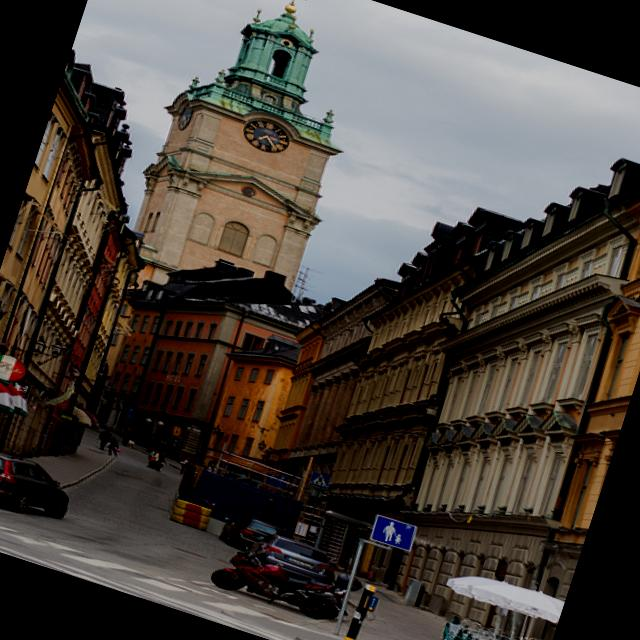Vehicle: (207, 539, 352, 627), (0, 432, 77, 528), (246, 527, 342, 586), (214, 508, 297, 566)
